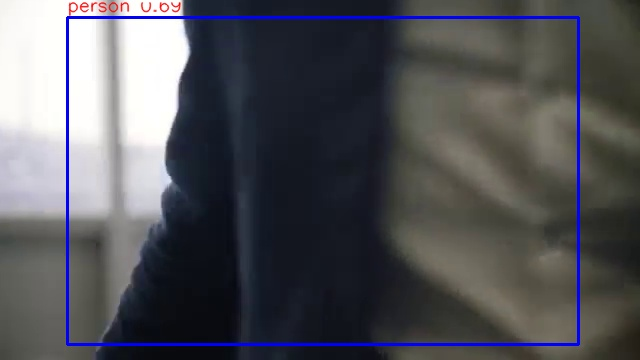person: (67, 17, 578, 344)
